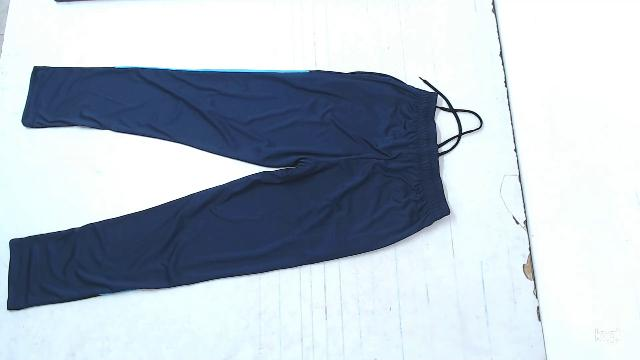new-garment: (7, 67, 472, 310)
